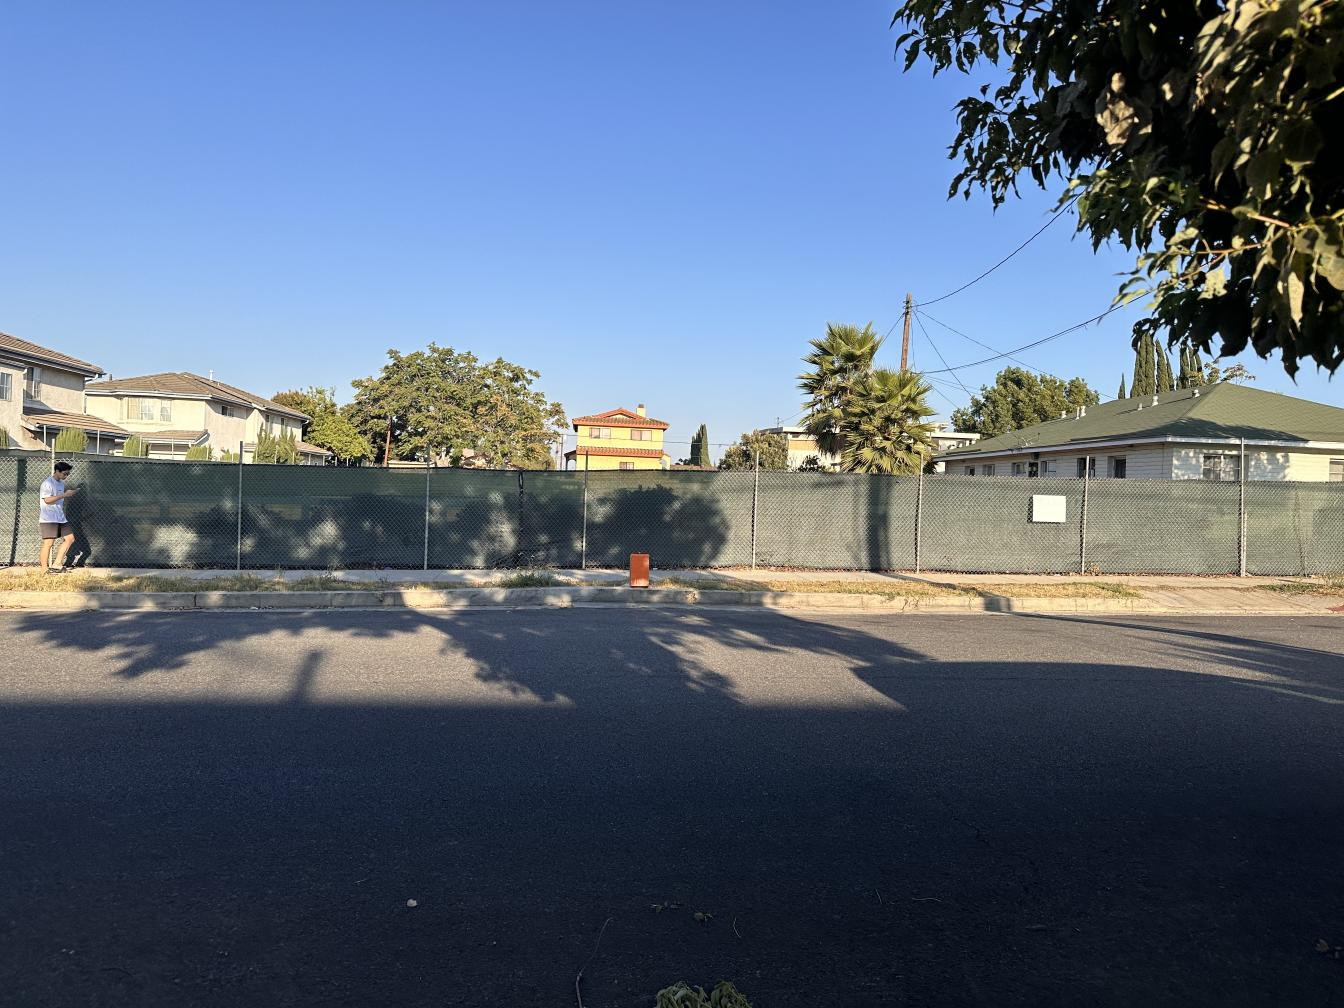curbs-laRr: (4, 583, 631, 610), (639, 586, 1143, 618)
orange box: (630, 554, 650, 588)
